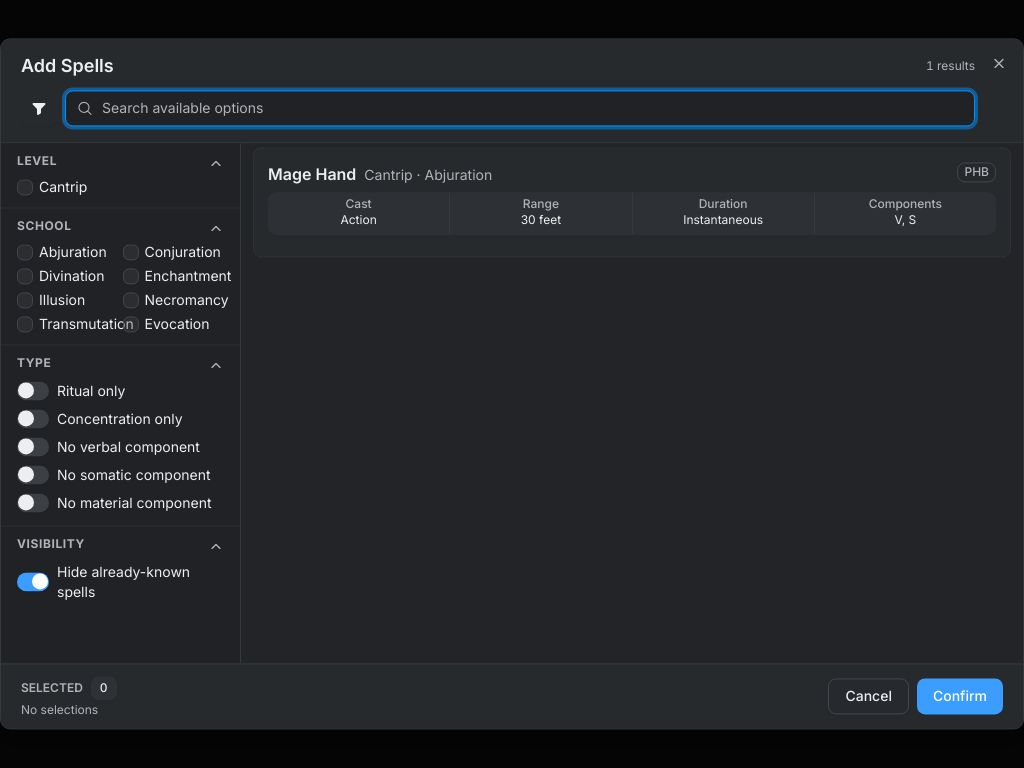
it: SpellSelectionModal identity › catalog choices continue to hide known logical spells across printings
The width and height of the screenshot is (1024, 768).
Check: the text "Mage Hand" is shown, box [268, 164, 356, 184]
Check: the text "Light" is not shown
Click the switch named "Hide already-known spells" next to "Hide already-known spells".
click(33, 582)  # box [17, 573, 49, 591]
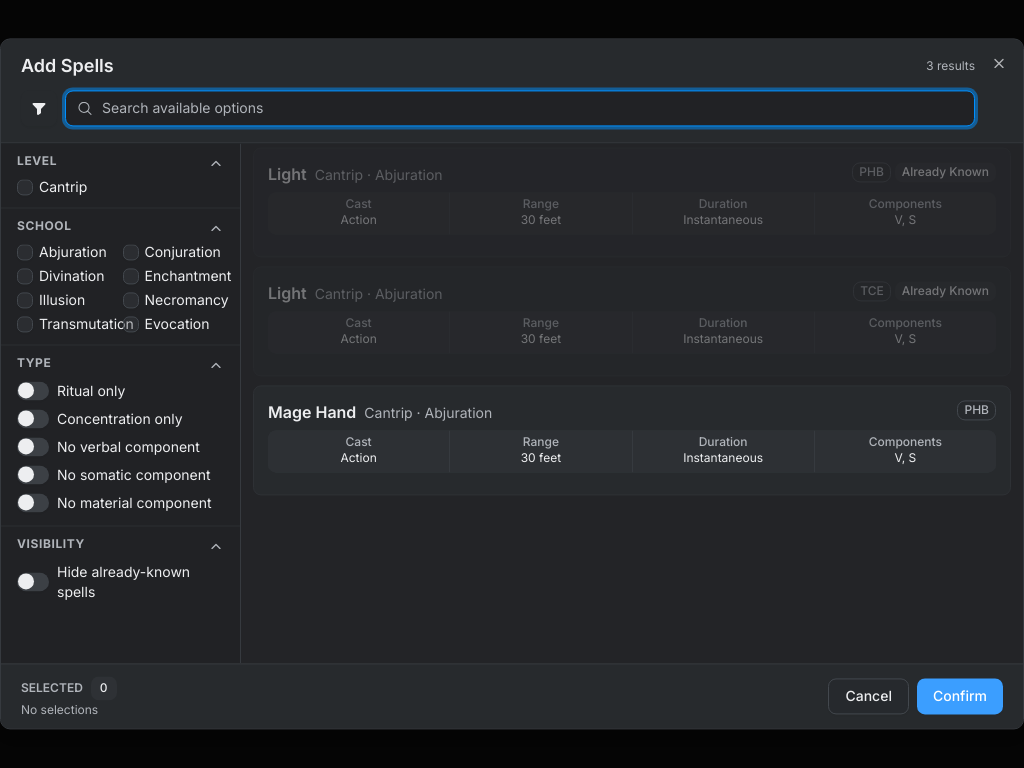
Check: the text "Light" is shown 2 times, box [268, 164, 307, 184]; [268, 283, 307, 303]
Check: the button "Light" is disabled, box [253, 147, 1011, 257]
